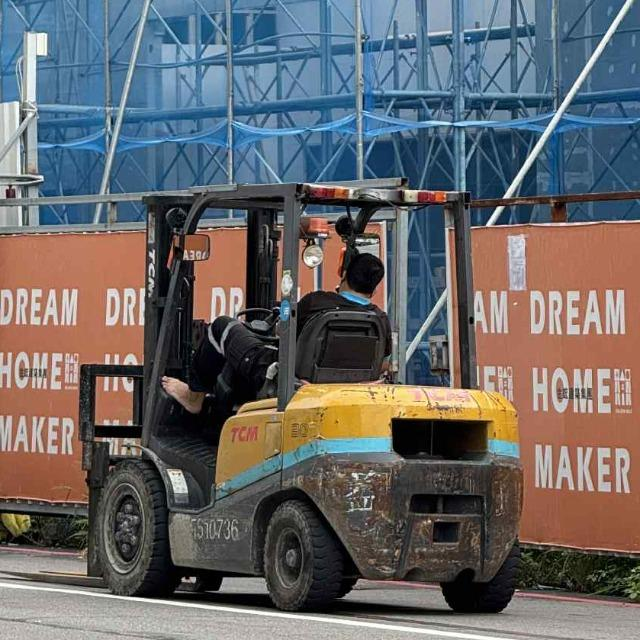NoHelmet: (343, 250, 389, 301)
